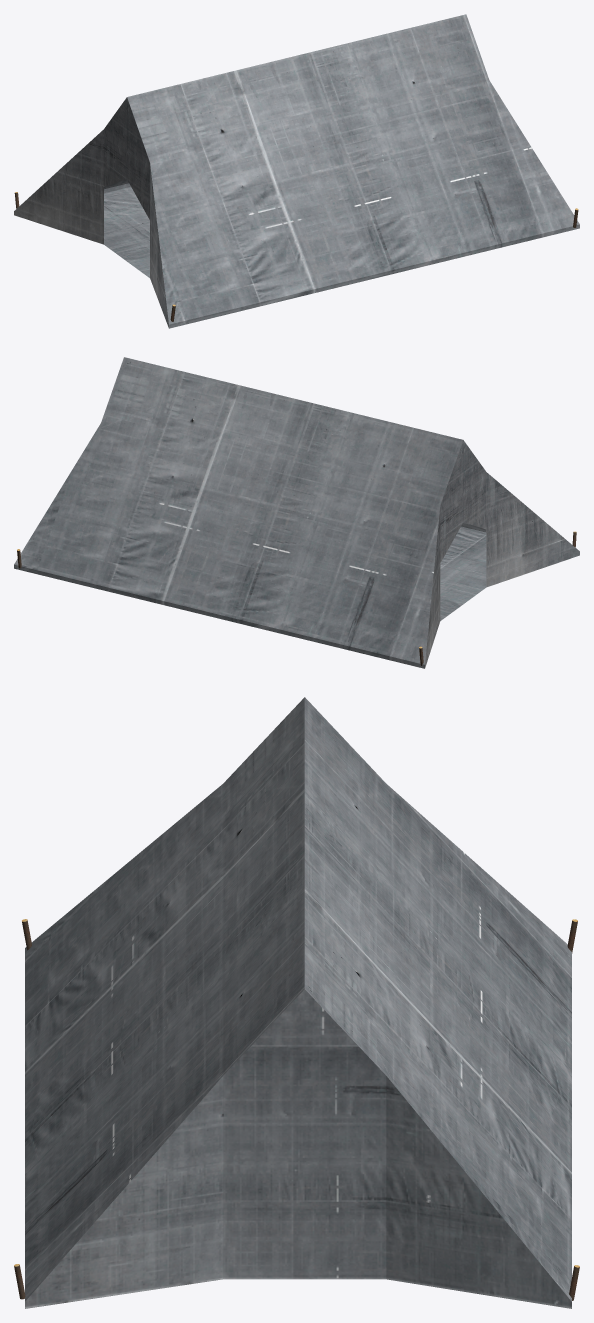
The model's file is Tent.fbx.
The picture shows the model from 3 angles, top to bottom: view 1: azimuth 30°, elevation 25°; view 2: azimuth 150°, elevation 25°; view 3: azimuth 270°, elevation 25°; orthographic projection. The views are drawn at different scales.
Parts seen in each view (by area): view 1: Cube; view 2: Cube; view 3: Cube.
Part boxes in pixels (left/top/right/bottom): Cube: left=14, top=14, right=579, bottom=328; Cube: left=14, top=357, right=579, bottom=668; Cube: left=25, top=697, right=571, bottom=1308.
Size of the model in its own units: 1028 by 393 by 695.
